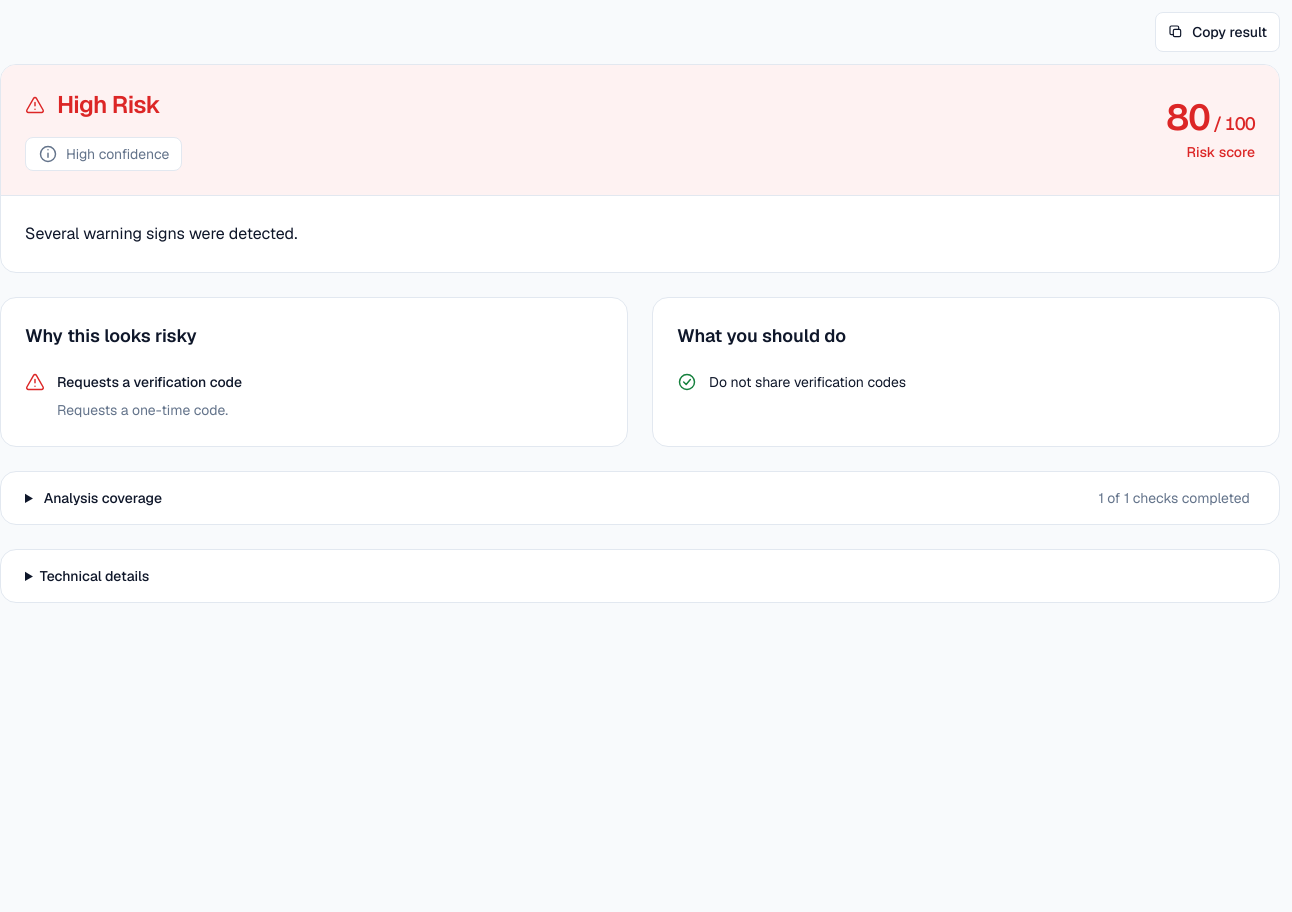
it: copies a compact result and confirms the action without exposing submitted input
Click the button "Copy result".
click(1218, 32)  # box [1155,12,1280,52]
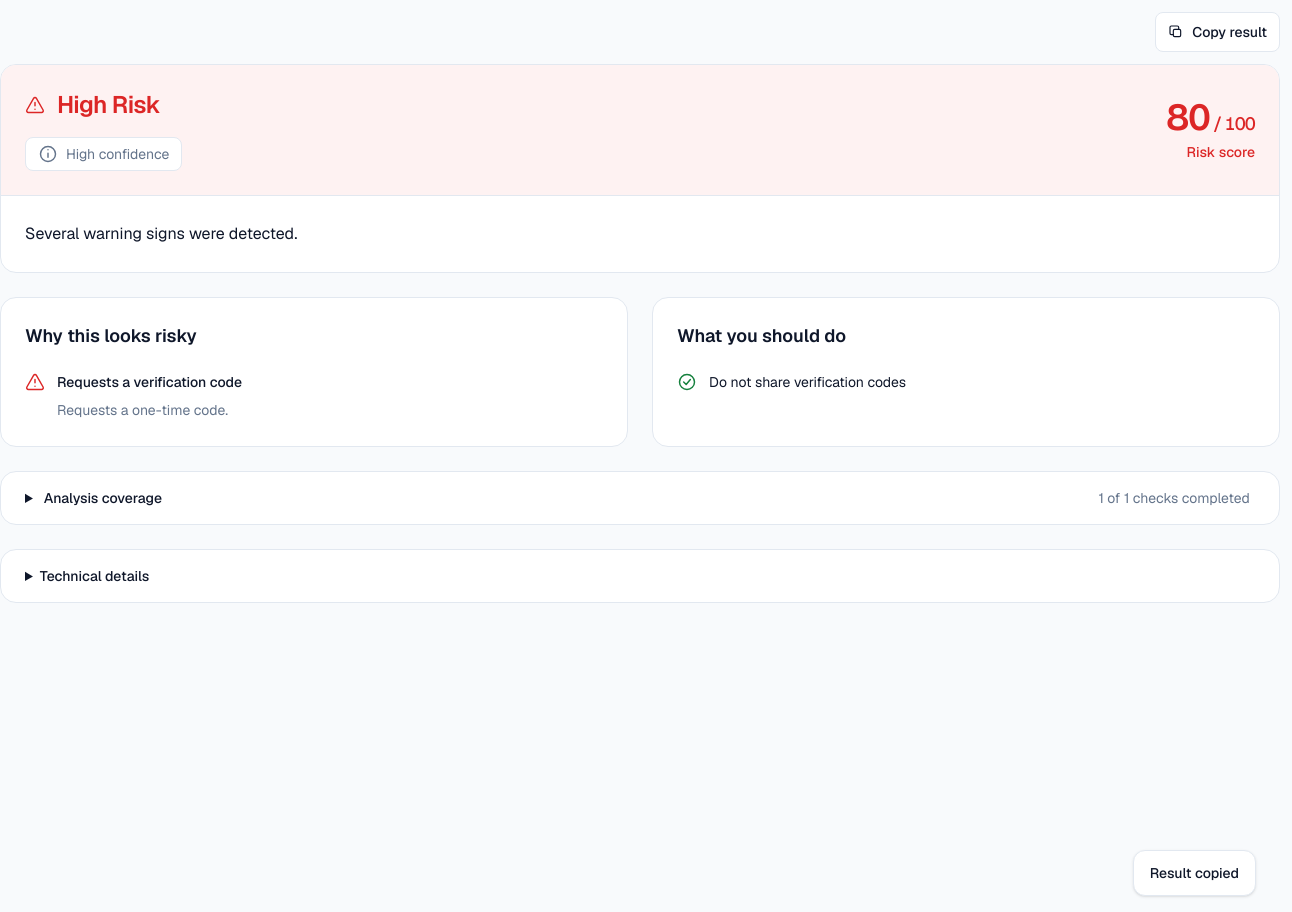
Now the message "Result copied" is shown, box [1133,850,1256,896]
